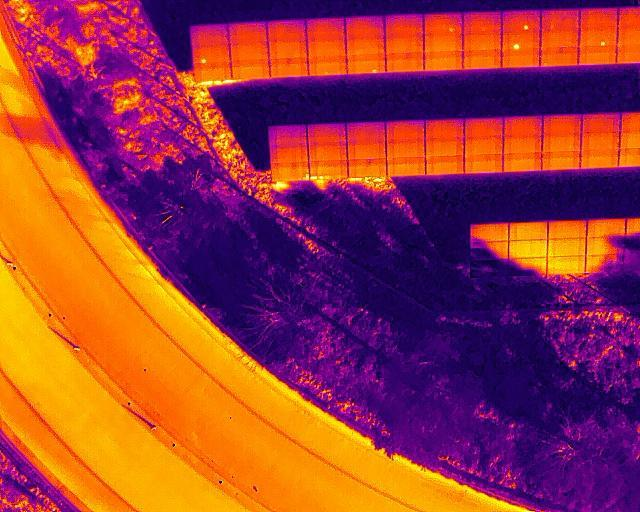Cell: (578, 25, 618, 48), (502, 29, 541, 50), (503, 10, 540, 32), (424, 14, 463, 34), (191, 43, 232, 62), (347, 55, 386, 74)
Cell-Multi: (309, 159, 346, 179), (271, 163, 310, 181)
No-Anomaly: (463, 11, 502, 34), (583, 111, 624, 132), (307, 38, 347, 59), (346, 15, 386, 36), (307, 122, 348, 142), (384, 34, 425, 54), (542, 130, 581, 151), (268, 19, 305, 41), (508, 222, 548, 242), (580, 148, 620, 168), (424, 51, 464, 71), (541, 46, 581, 66), (386, 137, 425, 157), (425, 137, 464, 157), (463, 50, 502, 70), (230, 39, 269, 59), (307, 19, 346, 39), (548, 219, 589, 238), (542, 8, 579, 29), (465, 153, 503, 173), (542, 150, 580, 170), (582, 130, 622, 149), (268, 58, 308, 77), (347, 36, 385, 56), (541, 29, 579, 49), (385, 14, 425, 33), (231, 58, 269, 78), (347, 158, 386, 177), (501, 49, 540, 68), (463, 32, 502, 51), (228, 20, 267, 39), (580, 8, 619, 27), (191, 24, 228, 44), (546, 255, 587, 273), (424, 119, 465, 137), (548, 237, 586, 256), (387, 156, 425, 175), (503, 152, 541, 171), (269, 145, 307, 164), (348, 139, 386, 158), (503, 133, 541, 152), (269, 125, 307, 144), (307, 58, 347, 76), (309, 141, 346, 160), (578, 47, 619, 64), (347, 122, 385, 140), (425, 156, 465, 173), (424, 33, 464, 50), (386, 120, 425, 137), (385, 53, 424, 70), (269, 40, 308, 57), (465, 119, 503, 136), (508, 241, 548, 257), (503, 117, 543, 133), (543, 114, 583, 130), (465, 136, 502, 153), (194, 62, 231, 79)
Shadowing: (470, 239, 509, 259), (588, 219, 627, 239), (508, 257, 547, 276), (586, 254, 627, 272), (587, 237, 625, 256), (470, 223, 508, 242), (469, 258, 508, 276)
